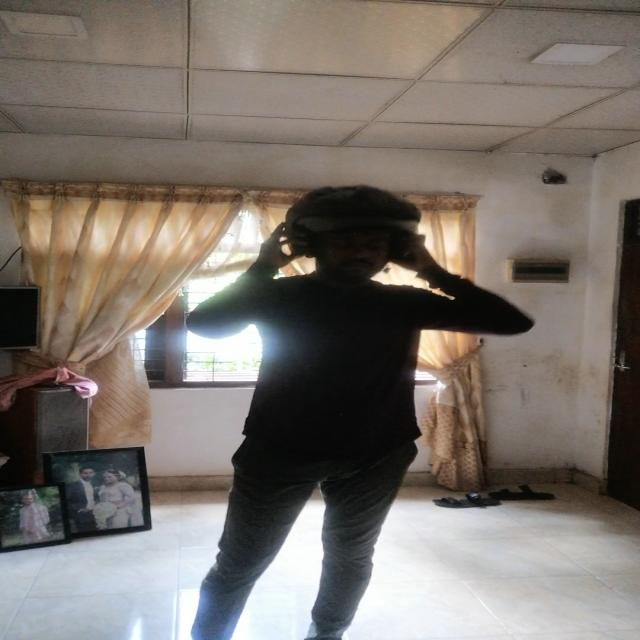Helmet_Wearer: (250, 181, 434, 289)
Person: (209, 184, 511, 638)
